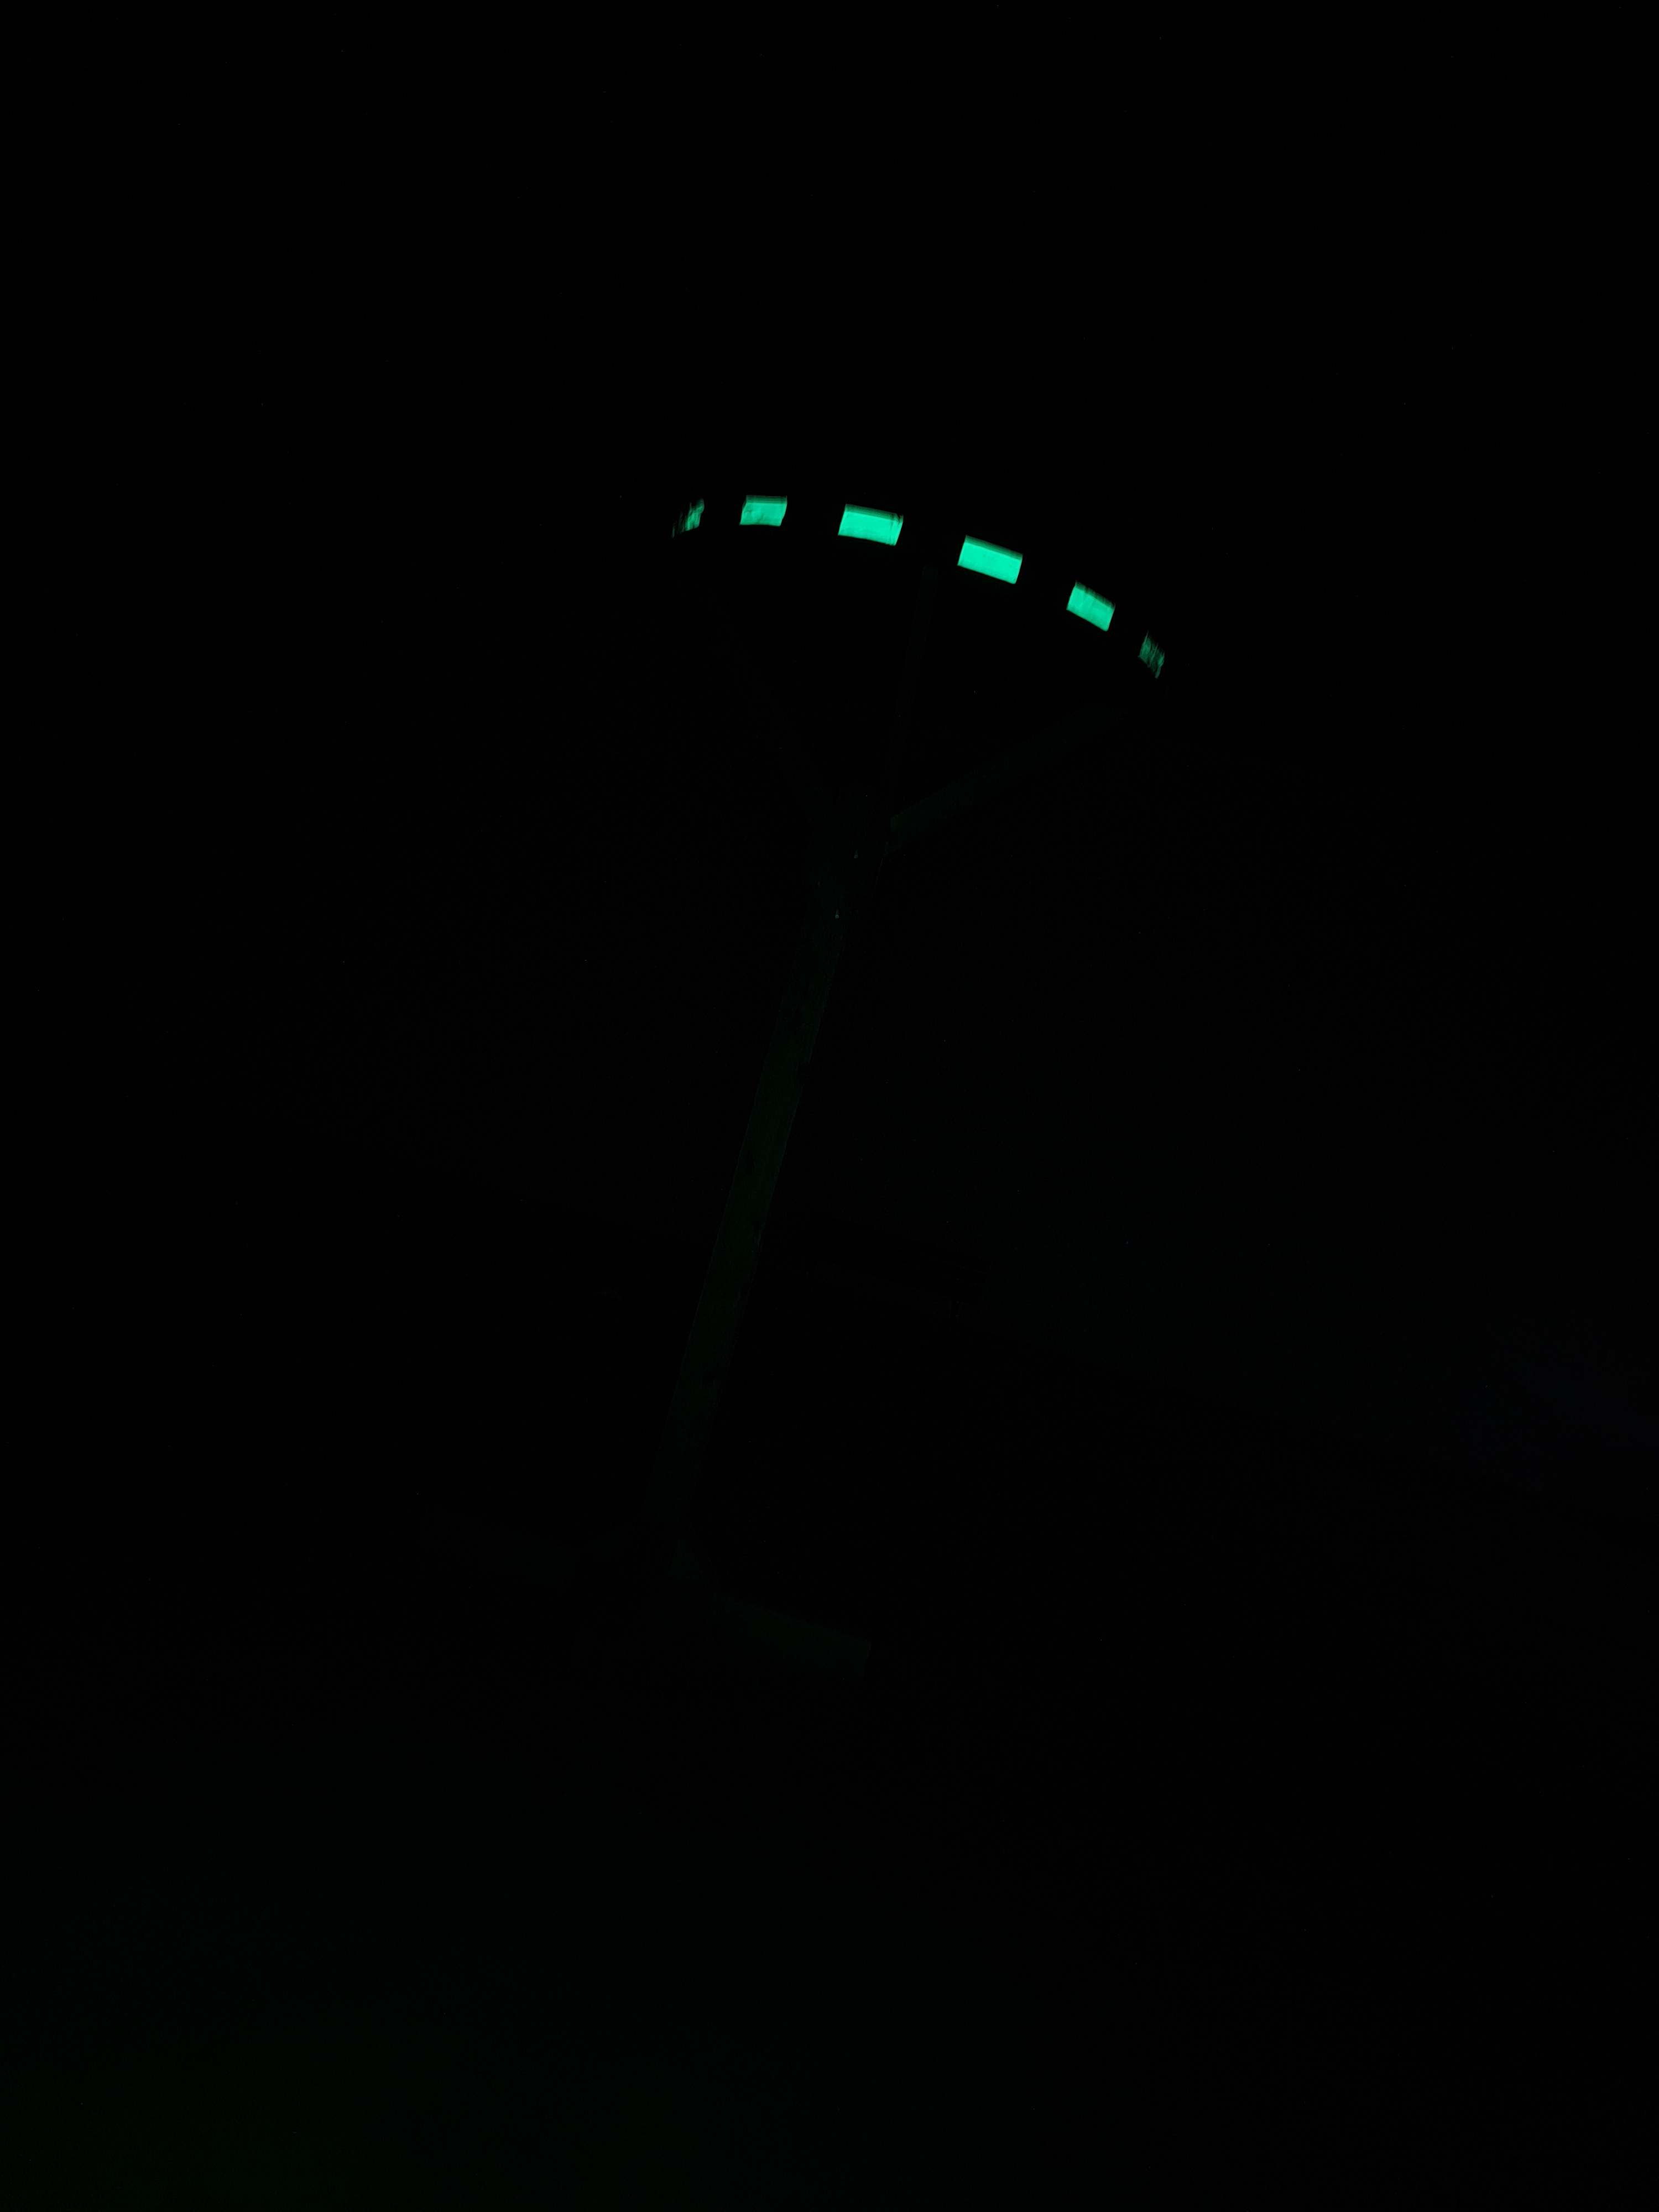hoop: (669, 479, 1173, 688)
